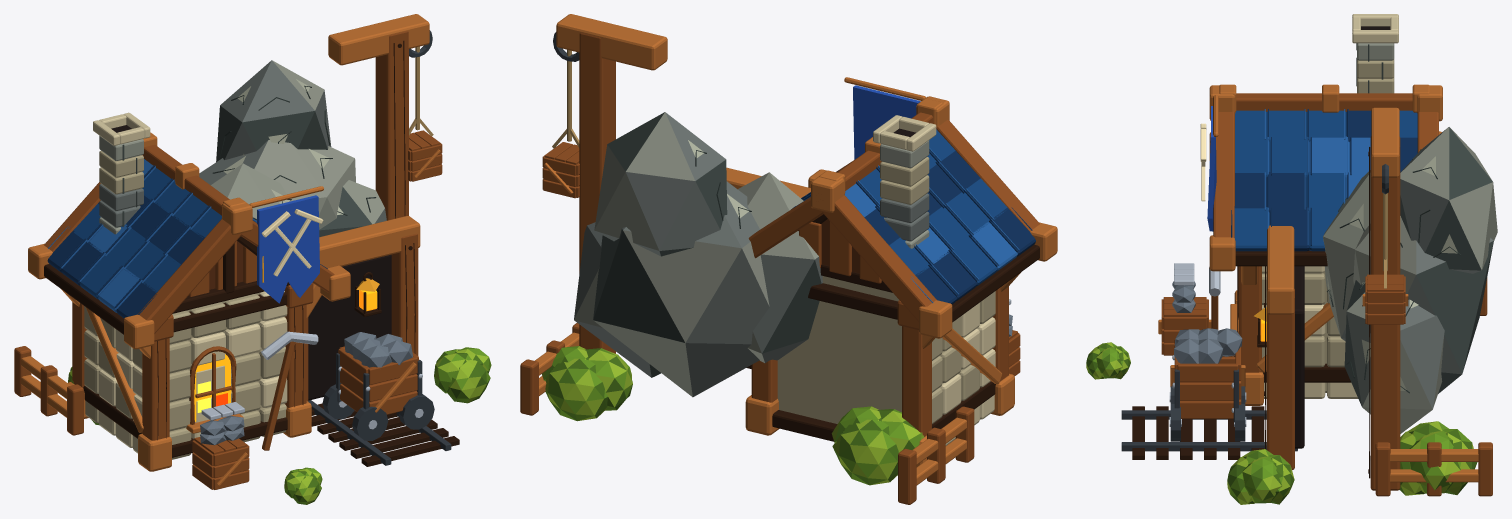
The model's file is metal_mine.glb.
3 views of the same model, side by side, from view 1: azimuth 30°, elevation 25°; view 2: azimuth 150°, elevation 25°; view 3: azimuth 270°, elevation 25° (orthographic). The views are drawn at different scales.
Parts seen in each view (by area): view 1: Angular mine outcrop.003, Ore hoist upright, Mine tunnel darkness, Angular mine outcrop.001, Cloth heraldic banner, Carved roof verge, Mine lintel, Ore hoist arm, Mine entrance timber.001, Corner upright, Angular mine outcrop.002, Angular mine outcrop (+70 smaller); view 2: Angular mine outcrop.001, Angular mine outcrop.003, Cottage walls, Angular mine outcrop, Ore hoist upright, Carved roof verge.001, Ore hoist arm, Leaf cluster.007, Leaf cluster.011, Angular mine outcrop.002, Corner upright.001, Cloth heraldic banner (+44 smaller); view 3: Angular mine outcrop.003, Angular mine outcrop.001, Ore hoist upright, Angular mine outcrop.002, Mine entrance timber.001, Angular mine outcrop, Ridge timber, Mine lintel, Carved roof verge.002, Ore hoist arm, Corner upright.002, Mine tunnel darkness (+59 smaller).
Part boxes in pixels (x1,y1,x2,y2): Angular mine outcrop.003: [216, 60, 331, 161]; Ore hoist upright: [375, 31, 408, 220]; Mine tunnel darkness: [308, 254, 391, 400]; Angular mine outcrop.001: [199, 140, 355, 229]; Cloth heraldic banner: [257, 195, 319, 303]; Carved roof verge: [138, 219, 241, 333]; Mine lintel: [319, 216, 420, 267]; Ore hoist arm: [328, 14, 429, 65]; Mine entrance timber.001: [391, 233, 418, 355]; Corner upright: [142, 338, 169, 440]; Angular mine outcrop.002: [319, 180, 386, 236]; Angular mine outcrop: [211, 163, 290, 218]; Angular mine outcrop.001: [593, 181, 769, 397]; Angular mine outcrop.003: [594, 112, 727, 256]; Cottage walls: [777, 276, 901, 423]; Angular mine outcrop: [738, 172, 822, 363]; Ore hoist upright: [579, 32, 615, 353]; Carved roof verge.001: [823, 195, 936, 321]; Ore hoist arm: [556, 14, 667, 70]; Leaf cluster.007: [832, 419, 898, 485]; Leaf cluster.011: [545, 358, 607, 421]; Angular mine outcrop.002: [574, 222, 660, 377]; Corner upright.001: [902, 326, 931, 436]; Cloth heraldic banner: [853, 85, 920, 159]; Angular mine outcrop.003: [1400, 127, 1497, 273]; Angular mine outcrop.001: [1353, 217, 1493, 393]; Ore hoist upright: [1370, 136, 1400, 490]; Angular mine outcrop.002: [1344, 280, 1444, 433]; Mine entrance timber.001: [1266, 289, 1294, 469]; Angular mine outcrop: [1323, 170, 1370, 341]; Ridge timber: [1236, 93, 1412, 111]; Mine lintel: [1267, 225, 1294, 314]; Carved roof verge.002: [1213, 111, 1234, 237]; Ore hoist arm: [1371, 107, 1399, 177]; Corner upright.002: [1238, 266, 1261, 372]; Mine tunnel darkness: [1294, 266, 1304, 448].
Bounding box in the file's own units: 4.18 × 3.53 × 3.62.
